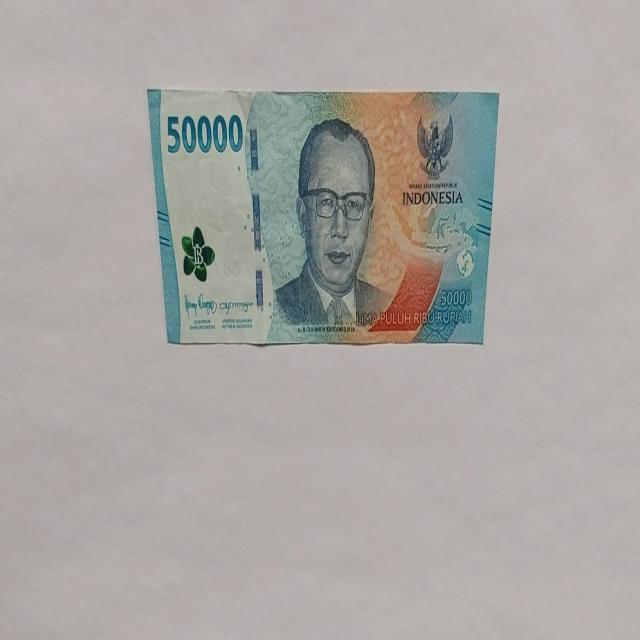lima puluh ribu rupiah: (146, 86, 500, 348), (272, 116, 392, 332)
